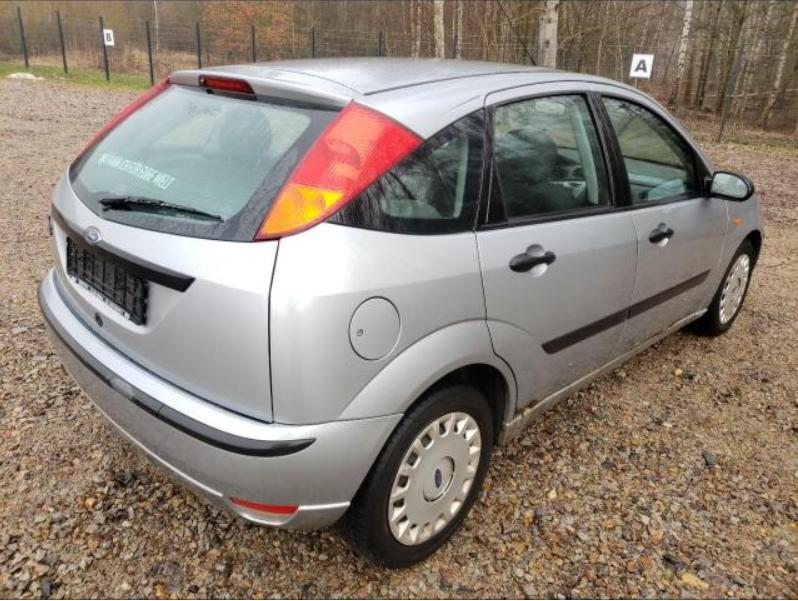Back-bumper: (38, 269, 404, 531)
Back-door: (476, 82, 637, 420)
Back-wheel: (348, 386, 494, 568)
Back-window: (323, 109, 485, 236), (492, 92, 612, 222)
Back-windshield: (69, 82, 344, 241)
Fender: (707, 193, 768, 309)
Front-door: (590, 83, 728, 358)
Front-wheel: (710, 240, 756, 334)
Front-window: (602, 96, 708, 204)
License-plate: (66, 237, 148, 326)
Mirror: (710, 171, 754, 201)
Quarter-panel: (269, 222, 517, 425)
Rocker-panel: (500, 309, 709, 444)
Roof: (248, 56, 644, 140)
Tail-light: (252, 100, 427, 240), (86, 78, 169, 150)
Trunk: (48, 166, 277, 423), (171, 64, 359, 110)
